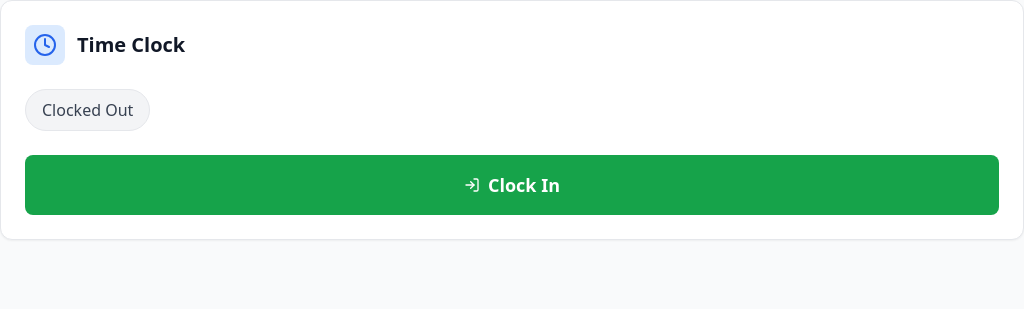
Test: TimeClock — actions dispatch the right endpoint and re-render from the result › OFF → Clock In hits /clock/in and the UI becomes ON_CLOCK
The width and height of the screenshot is (1024, 309).
Click the button "Clock In".
click(512, 185)  # box x1=25 y1=155 x2=999 y2=215
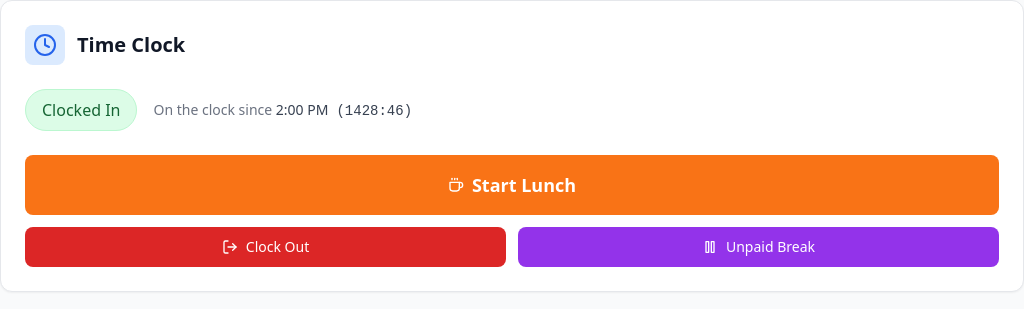
Check: the button "Clock Out" is shown, box x1=25 y1=227 x2=506 y2=267
Check: the button "Start Lunch" is shown, box x1=25 y1=155 x2=999 y2=215
